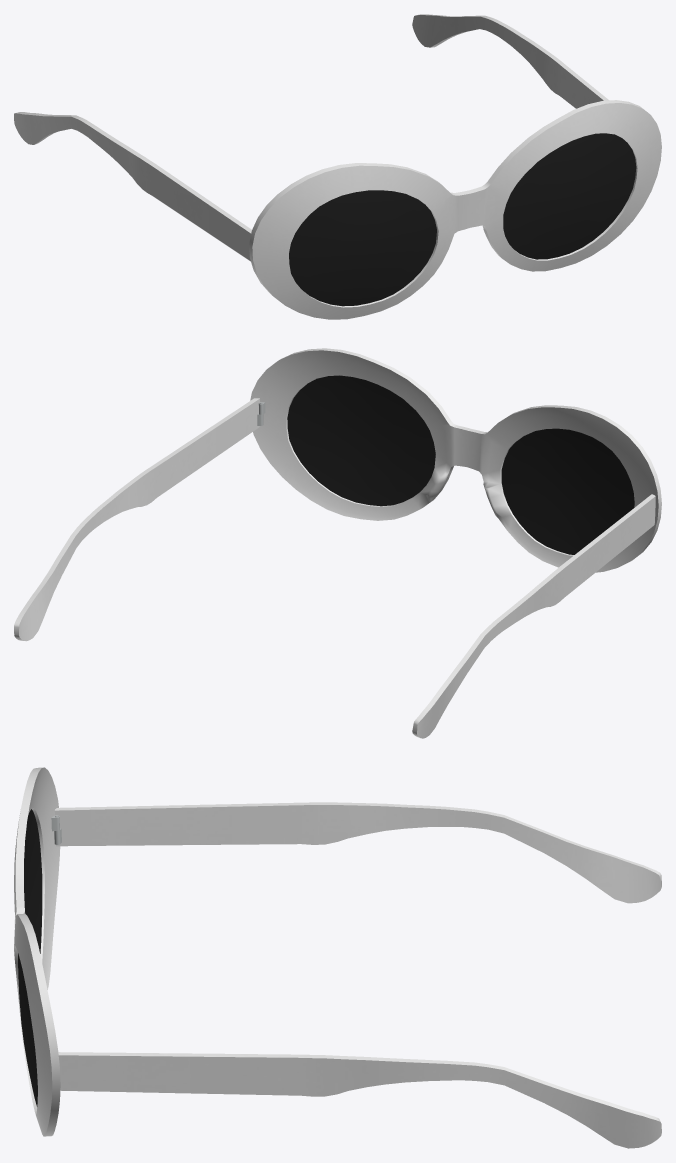
The model's file is sunglasses.fbx.
3 views of the same model, one above another, from view 1: azimuth 30°, elevation 25°; view 2: azimuth 150°, elevation 25°; view 3: azimuth 270°, elevation 25° (orthographic). The views are drawn at different scales.
Visible parts, largest first — view 1: Sunglasses_Material #41_0; view 2: Sunglasses_Material #41_0; view 3: Sunglasses_Material #41_0.
Boxes of the visible parts, <box> form: Sunglasses_Material #41_0: <box>14,14,661,319</box>; Sunglasses_Material #41_0: <box>14,348,661,738</box>; Sunglasses_Material #41_0: <box>14,767,661,1148</box>.
Bounding box in the file's own units: 13.79 × 4.99 × 14.67.
Materials: 1 (1 with a texture image).
